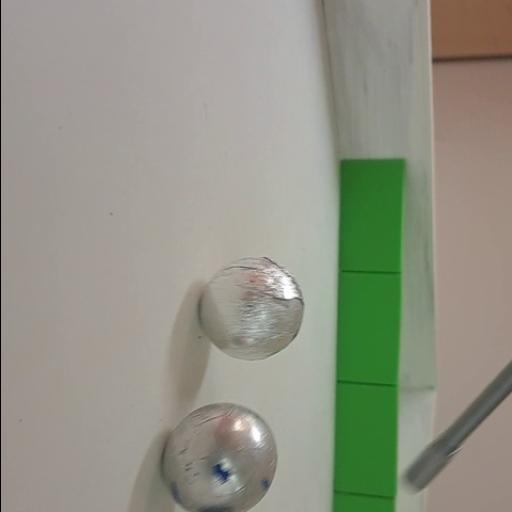alive: (162, 400, 276, 510), (199, 256, 303, 360)
